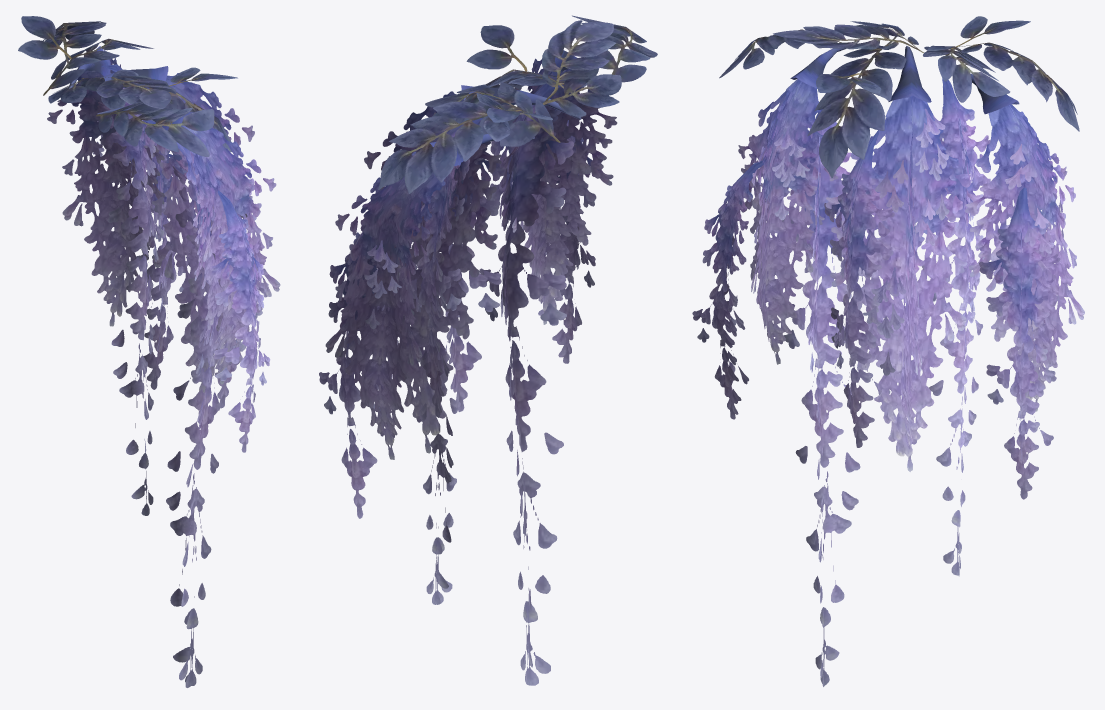
3 renders of one model, left to right at view 1: azimuth 30°, elevation 25°; view 2: azimuth 150°, elevation 25°; view 3: azimuth 270°, elevation 25°, orthographic. The views are drawn at different scales.
Size of the model in its own units: 2.54 by 6.06 by 3.44.
Materials: 1 (1 with a texture image).
